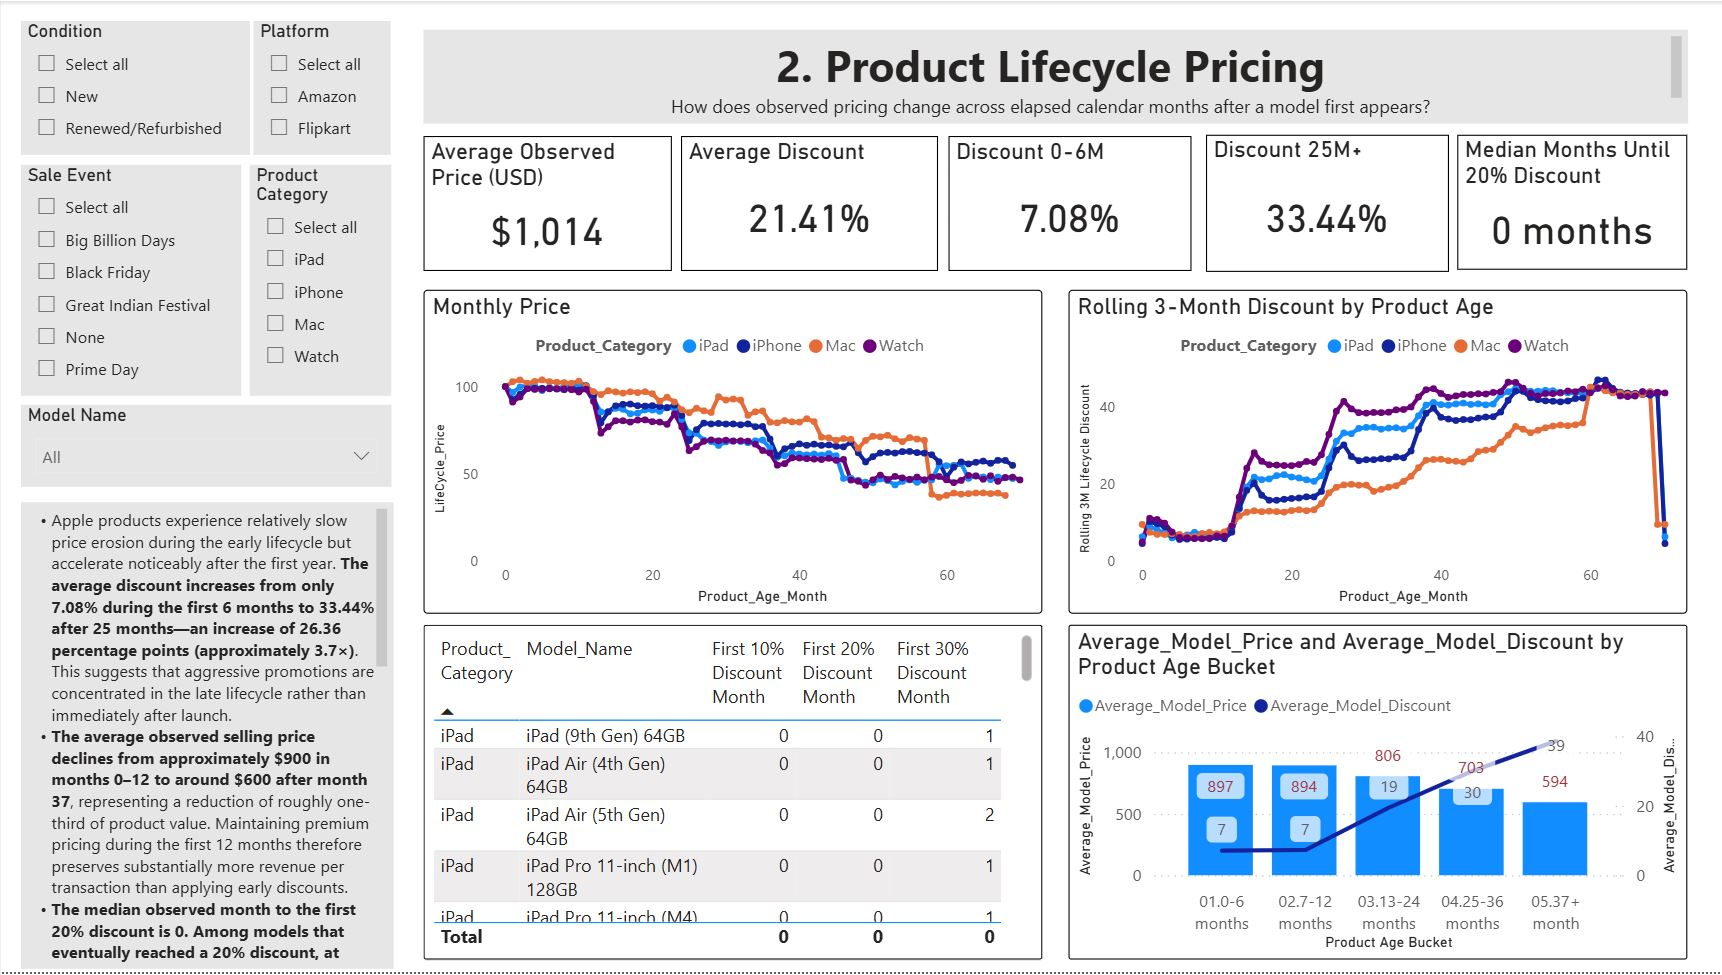

The page's visual inventory and layout, read from the dashboard file:
{"tool":"powerbi","page":{"name":"Product Lifecycle Pricing","canvas":[1280,720],"ordinal":1},"visuals":[{"type":"card","title":"Average Observed Price (USD) ","fields":{"Values":["0. Mesure.Initial Observed Price"]},"box":[312.7,100.3,183.7,100.3],"z":0},{"type":"card","title":"Average Discount","fields":{"Values":["0.1 Measure 2.Average_Model_Discount"]},"box":[503.3,100.3,190.6,100.3],"z":1000},{"type":"card","title":"Discount 25M+","fields":{"Values":["0.1 Measure 2.Average Discount 25M+"]},"box":[892.5,99.3,179.7,101.3],"z":2000},{"type":"lineChart","title":"Monthly Price ","fields":{"Category":["fact_price_snapshot.Product_Age_Month"],"Series":["dim_product.Product_Category"],"Y":["0. Mesure.LifeCycle_Price"]},"box":[312.7,213.4,458.6,240.2],"z":3000},{"type":"slicer","title":"Product Category","fields":{"Values":["dim_product.Product_Category"]},"box":[184.3,121.3,104.6,171.3],"z":4000},{"type":"slicer","title":"Platform","fields":{"Values":["dim_platform.Platform_Name"]},"box":[187,14.8,101.9,99.1],"z":5000},{"type":"slicer","title":"Sale Event","fields":{"Values":["dim_sale_event.Sale_Event_Name"]},"box":[14.8,121.3,163,171.3],"z":6000},{"type":"slicer","title":"Condition","fields":{"Values":["dim_condition.Condition_Name"]},"box":[14.8,14.8,169.4,99.1],"z":7000},{"type":"card","title":"Discount 0-6M","fields":{"Values":["0.1 Measure 2.Average Discount 0-6M"]},"box":[701.9,100.3,179.7,100.3],"z":8000},{"type":"textbox","box":[312.7,20.8,937.1,69.5],"z":9000},{"type":"slicer","title":"Model Name","fields":{"Values":["dim_product.Model_Name"]},"box":[14.8,299.1,274.1,61.1],"z":10000},{"type":"textbox","box":[14.9,371.3,276,345.5],"z":11000},{"type":"lineChart","title":"Rolling 3-Month Discount by Product Age","fields":{"Category":["fact_price_snapshot.Product_Age_Month"],"Series":["dim_product.Product_Category"],"Y":["0.1 Measure 2.Rolling 3M Lifecycle Discount"]},"box":[791.2,213.4,458.6,240.2],"z":12000},{"type":"tableEx","fields":{"Values":["dim_product.Product_Category","dim_product.Model_Name","0.1 Measure 2.First 10% Discount Month","0.1 Measure 2.First 20% Discount Month","0.1 Measure 2.First 30% Discount Month"]},"box":[313,462,458.3,248.1],"z":13000},{"type":"card","title":"Median Months Until 20% Discount","fields":{"Values":["0.1 Measure 2.Median months to first 20% discount"]},"box":[1079.1,99.3,170.7,100.3],"z":14000},{"type":"lineClusteredColumnComboChart","fields":{"Category":["fact_price_snapshot.Product Age Bucket"],"Y":["0.1 Measure 2.Average_Model_Price"],"Y2":["0.1 Measure 2.Average_Model_Discount"]},"box":[790.7,462,458.3,248.1],"z":15000}]}

Visuals, with their boxes in screenshot pixels (x1, y1, x2, y2), scaled from the page's 1280x720 canvas onto the 1722x975 screenshot:
"Average Observed Price (USD) " card: locate(421, 136, 668, 272)
"Average Discount" card: locate(677, 136, 934, 272)
"Discount 25M+" card: locate(1201, 134, 1442, 272)
"Monthly Price " lineChart: locate(421, 289, 1038, 614)
"Product Category" slicer: locate(248, 164, 389, 396)
"Platform" slicer: locate(252, 20, 389, 154)
"Sale Event" slicer: locate(20, 164, 239, 396)
"Condition" slicer: locate(20, 20, 248, 154)
"Discount 0-6M" card: locate(944, 136, 1186, 272)
textbox: locate(421, 28, 1681, 122)
"Model Name" slicer: locate(20, 405, 389, 488)
textbox: locate(20, 503, 391, 971)
"Rolling 3-Month Discount by Product Age" lineChart: locate(1064, 289, 1681, 614)
tableEx - dim_product.Product_Category x dim_product.Model_Name: locate(421, 626, 1038, 962)
"Median Months Until 20% Discount" card: locate(1452, 134, 1681, 270)
lineClusteredColumnComboChart - fact_price_snapshot.Product Age Bucket x 0.1 Measure 2.Average_Model_Price: locate(1064, 626, 1680, 962)
